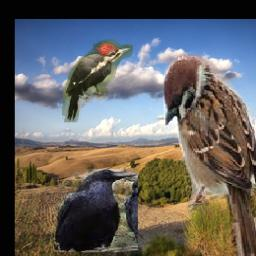Crow: (53, 169, 137, 252)
Sparrow: (162, 54, 256, 256)
Woodpecker: (62, 39, 133, 122)
